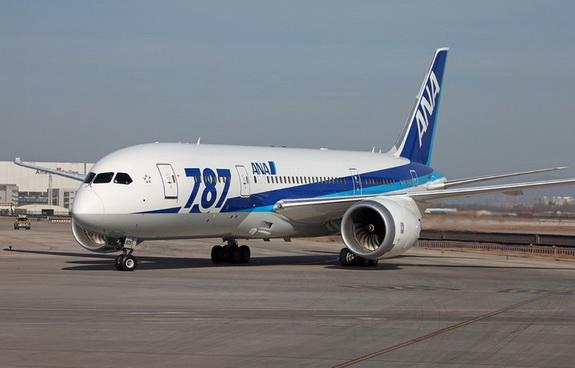airplane: (11, 45, 575, 278)
